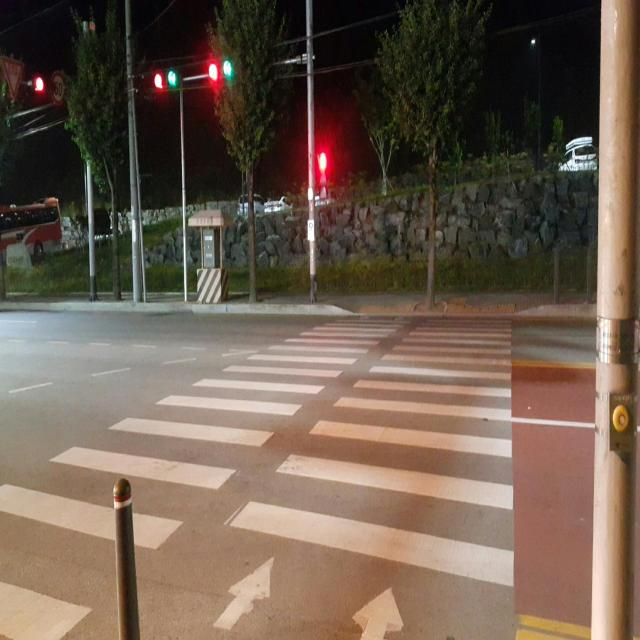빨간불: (316, 142, 332, 204)
횡단보도: (1, 313, 519, 638)
